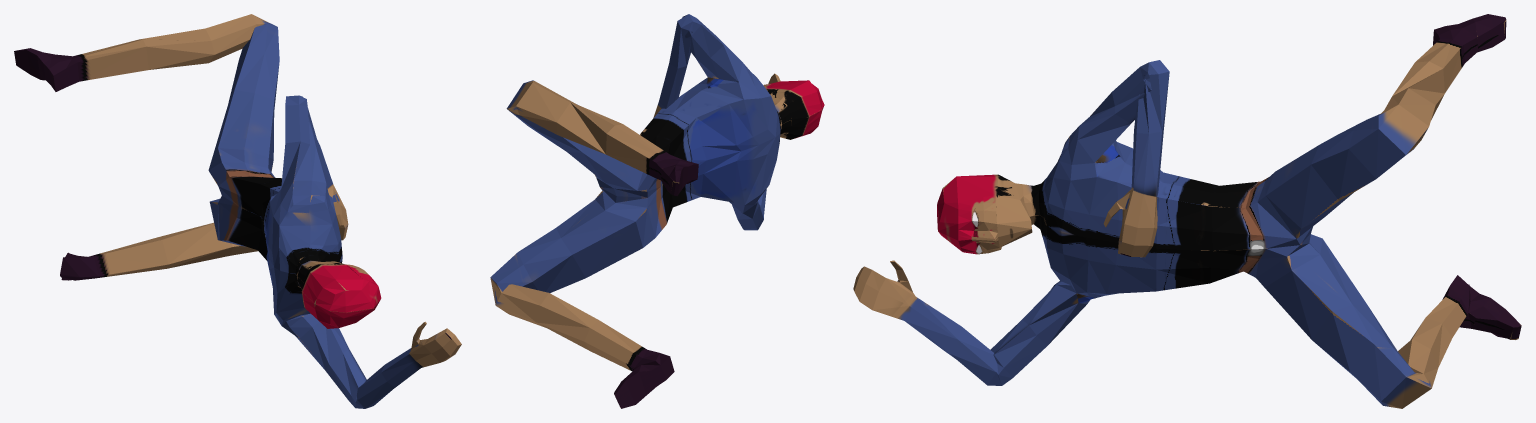
File: mirrorman_000025.obj
3 renders of one model, left to right at view 1: azimuth 30°, elevation 25°; view 2: azimuth 150°, elevation 25°; view 3: azimuth 270°, elevation 25°, orthographic. The views are drawn at different scales.
Visible parts, largest first — view 1: mirrorman_Cube.001_Material.001; view 2: mirrorman_Cube.001_Material.001; view 3: mirrorman_Cube.001_Material.001.
Part boxes in pixels (bbox=[...]): mirrorman_Cube.001_Material.001: bbox=[14, 14, 461, 408]; mirrorman_Cube.001_Material.001: bbox=[490, 14, 824, 408]; mirrorman_Cube.001_Material.001: bbox=[853, 14, 1521, 408].
Size of the model in its own units: 0.7499 by 0.8281 by 1.54.
Materials: 1 (1 with a texture image).
